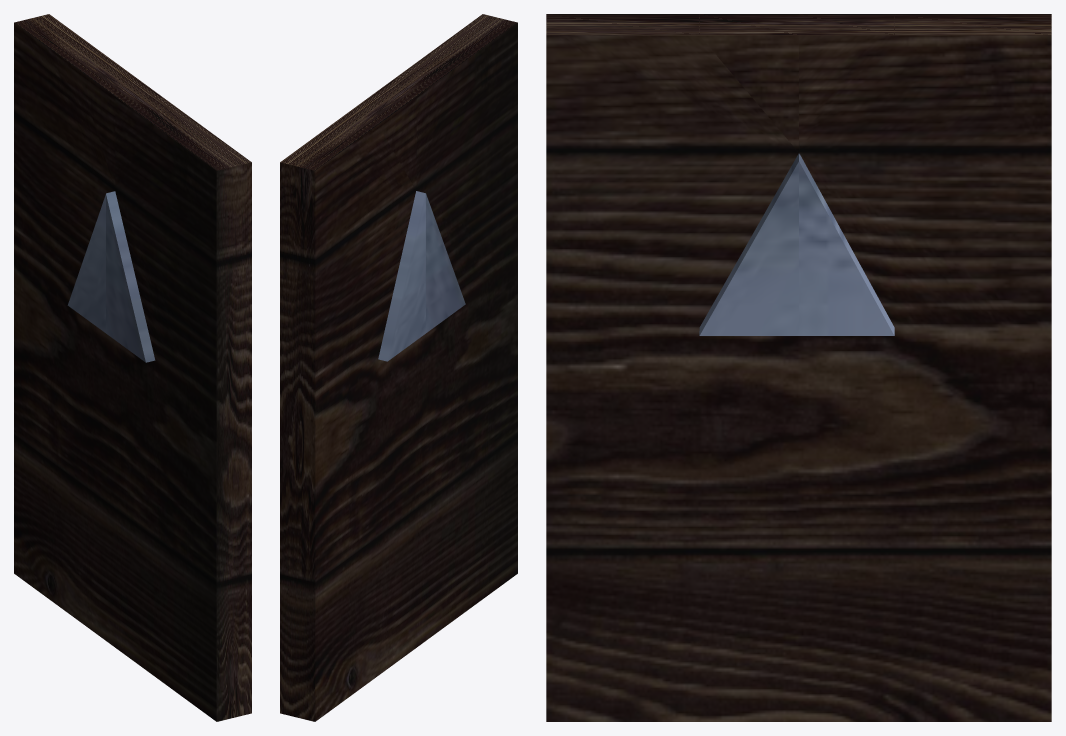
Rendered from Door.glb.
The picture shows the model from 3 angles, left to right: view 1: azimuth 30°, elevation 25°; view 2: azimuth 150°, elevation 25°; view 3: azimuth 270°, elevation 25°; orthographic projection. The views are drawn at different scales.
Parts seen in each view (by area): view 1: Cube, Cube.001; view 2: Cube, Cube.001; view 3: Cube, Cube.001.
Boxes of the visible parts, x1,y1,x2,y2 form: Cube: (14, 14, 251, 721); Cube.001: (67, 191, 155, 362); Cube: (280, 14, 517, 721); Cube.001: (378, 191, 465, 361); Cube: (546, 14, 1051, 721); Cube.001: (699, 153, 894, 335).
Size of the model in its own units: 0.3354 by 3 by 2.
2 materials, 2 textured.
